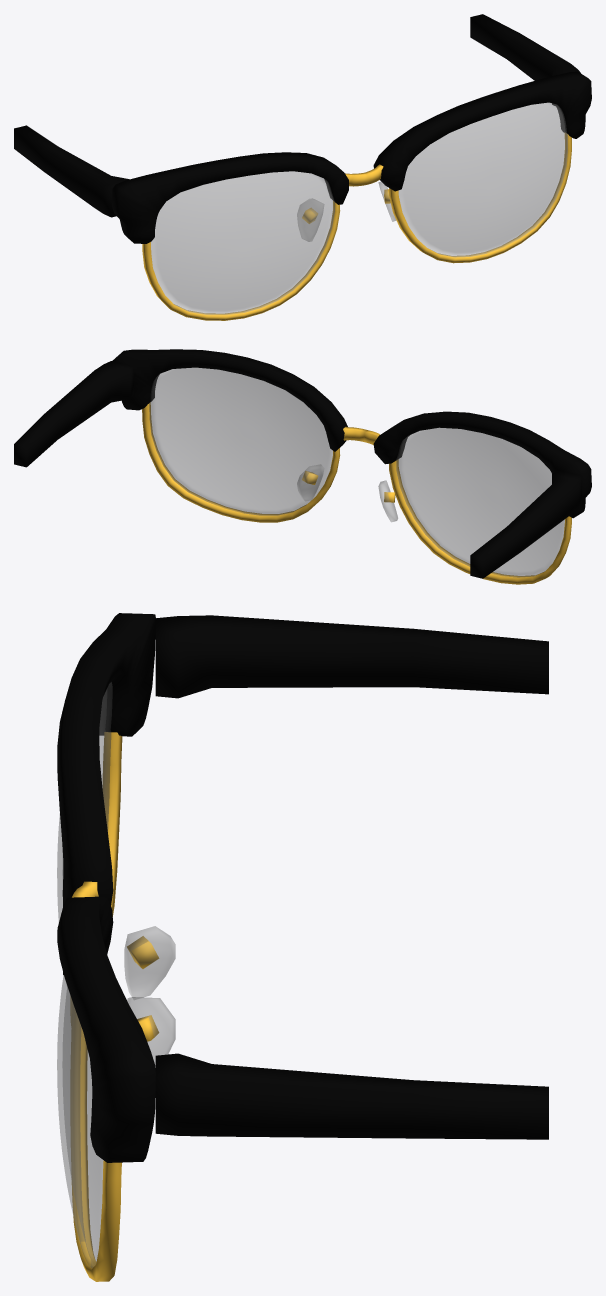
The model's file is Glasses.obj.
The picture shows the model from 3 angles, top to bottom: view 1: azimuth 30°, elevation 25°; view 2: azimuth 150°, elevation 25°; view 3: azimuth 270°, elevation 25°; orthographic projection. The views are drawn at different scales.
Parts seen in each view (by area): view 1: front_lens_Circle.004, front_black_Circle.003, back_Cube, front_gold_Circle.001, front_nose_Circle.005; view 2: front_lens_Circle.004, front_black_Circle.003, back_Cube, front_gold_Circle.001, front_nose_Circle.005; view 3: back_Cube, front_black_Circle.003, front_gold_Circle.001, front_lens_Circle.004, front_nose_Circle.005.
Part boxes in pixels (x1=…): front_lens_Circle.004: x1=151, y1=102, x2=567, y2=314; front_black_Circle.003: x1=112, y1=71, x2=591, y2=243; back_Cube: x1=14, y1=14, x2=580, y2=217; front_gold_Circle.001: x1=142, y1=132, x2=571, y2=320; front_nose_Circle.005: x1=297, y1=181, x2=395, y2=241; front_lens_Circle.004: x1=149, y1=367, x2=564, y2=577; front_black_Circle.003: x1=112, y1=349, x2=591, y2=518; back_Cube: x1=14, y1=361, x2=581, y2=578; front_gold_Circle.001: x1=142, y1=402, x2=571, y2=584; front_nose_Circle.005: x1=297, y1=464, x2=397, y2=522; back_Cube: x1=155, y1=615, x2=548, y2=1139; front_black_Circle.003: x1=57, y1=613, x2=155, y2=1162; front_gold_Circle.001: x1=70, y1=732, x2=159, y2=1281; front_lens_Circle.004: x1=57, y1=682, x2=112, y2=1268; front_nose_Circle.005: x1=124, y1=926, x2=175, y2=1067.
Bounding box in the file's own units: 5.48 × 1.74 × 2.45.
